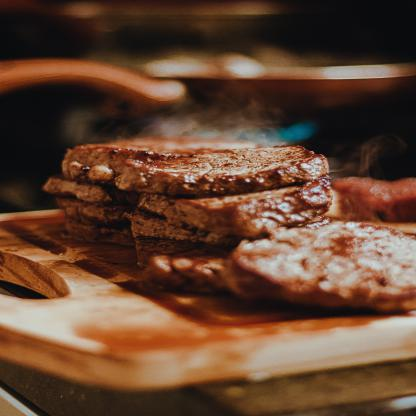Carne: (60, 133, 332, 192), (225, 226, 416, 309), (127, 180, 355, 226), (113, 214, 230, 256)
